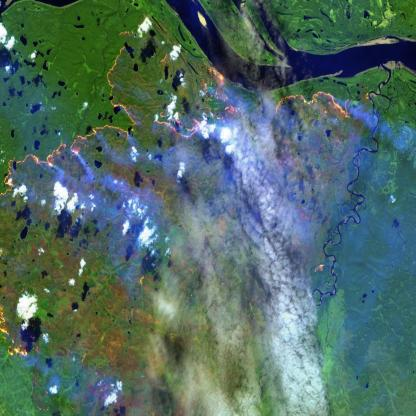fire: (0, 0, 357, 353)
